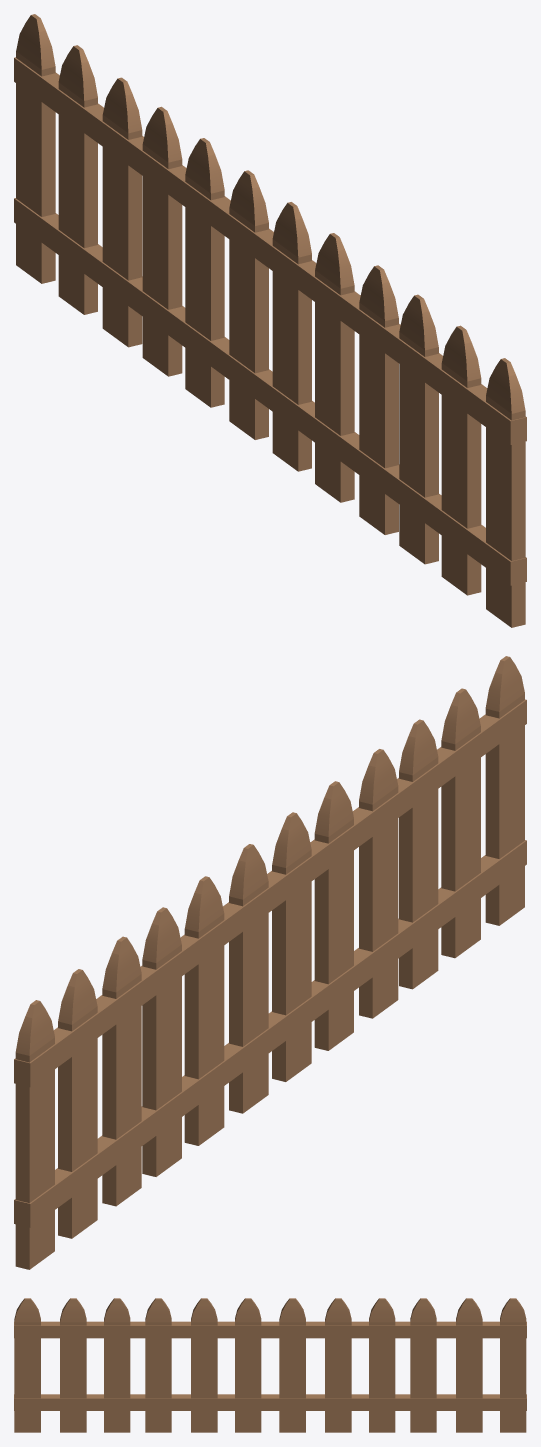
The model's file is Brown_fence.fbx.
3 views of the same model, one above another, from view 1: azimuth 30°, elevation 25°; view 2: azimuth 150°, elevation 25°; view 3: azimuth 270°, elevation 25° (orthographic). The views are drawn at different scales.
Visible parts, largest first — view 1: Fence_geo; view 2: Fence_geo; view 3: Fence_geo.
Boxes of the visible parts, x1,y1,x2,y2 form: Fence_geo: [14, 14, 526, 627]; Fence_geo: [14, 656, 526, 1269]; Fence_geo: [14, 1298, 526, 1432].
Size of the model in its own units: 0.1355 by 2.02 by 7.11.
